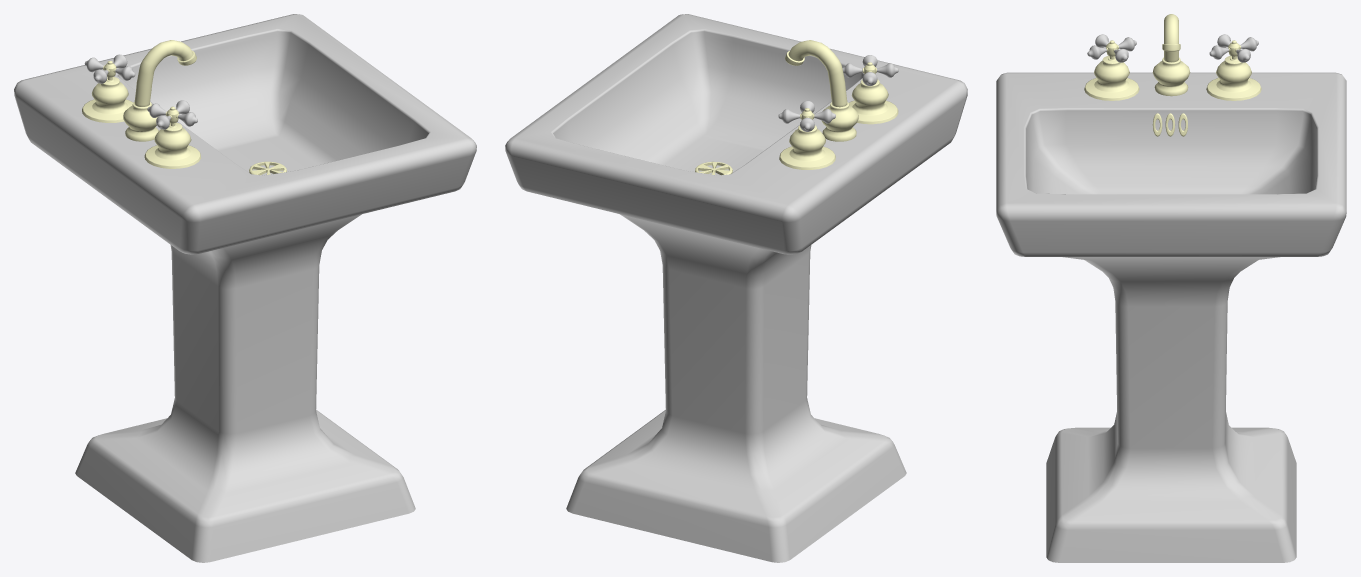
The model's file is Sink.fbx.
3 renders of one model, left to right at view 1: azimuth 30°, elevation 25°; view 2: azimuth 150°, elevation 25°; view 3: azimuth 270°, elevation 25°, orthographic. The views are drawn at different scales.
Parts seen in each view (by area): view 1: SinkBase, HandleBaseL, FaucetNeck, HandleBaseR, FaucetBase; view 2: SinkBase, HandleBaseR, FaucetNeck, HandleBaseL, FaucetBase; view 3: SinkBase, HandleBaseL, HandleBaseR, FaucetBase, FaucetNeck.
Part boxes in pixels (box(x1,y1,x2,y2)): SinkBase: box(14, 14, 476, 562); HandleBaseL: box(144, 122, 200, 168); FaucetNeck: box(134, 40, 196, 106); HandleBaseR: box(82, 76, 133, 122); FaucetBase: box(123, 102, 158, 141); SinkBase: box(505, 14, 967, 562); HandleBaseR: box(779, 125, 835, 169); FaucetNeck: box(785, 40, 847, 107); HandleBaseL: box(848, 79, 898, 124); FaucetBase: box(821, 102, 858, 141); SinkBase: box(996, 72, 1346, 562); HandleBaseL: box(1084, 56, 1139, 100); HandleBaseR: box(1206, 56, 1261, 100); FaucetBase: box(1152, 57, 1190, 96); FaucetNeck: box(1162, 14, 1180, 62).
Size of the model in its own units: 13.43 by 20.51 by 14.27.
